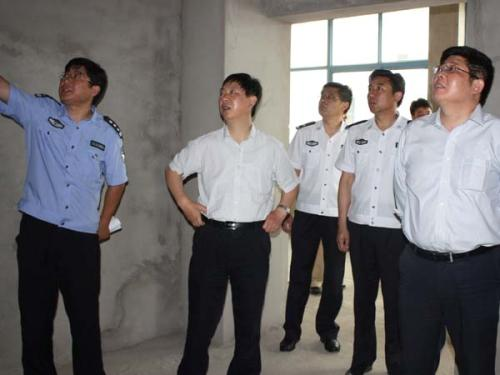boots: (279, 333, 300, 350), (320, 335, 340, 351), (345, 363, 372, 374)
person: (164, 72, 300, 374), (1, 56, 129, 375), (392, 45, 500, 374), (335, 69, 412, 375), (279, 81, 353, 353)
